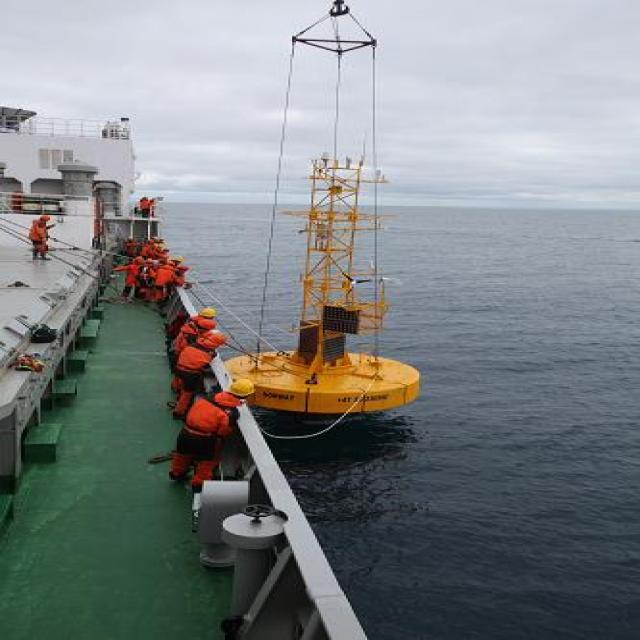buoy: (227, 147, 428, 410)
